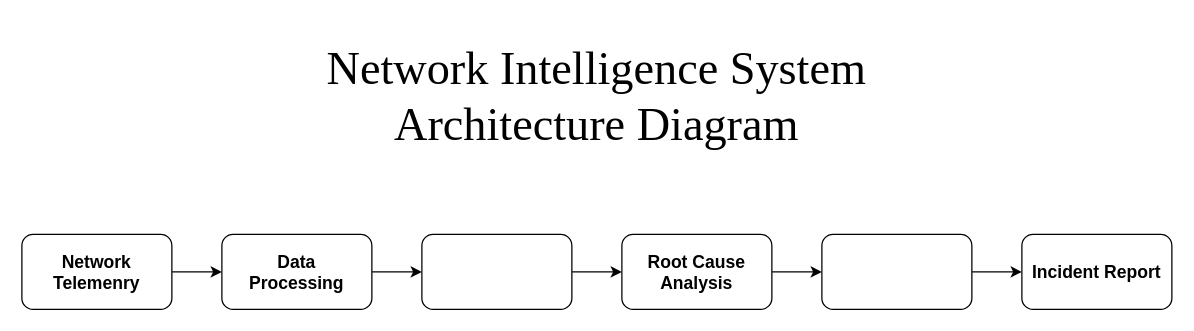
Image size: 1194x331. Some labels were removed from this diagram. Each missing label, with the centre of its shape:
"Anomaly Detection" goes at (x=496, y=271).
"Security Assesment" goes at (x=896, y=271).
